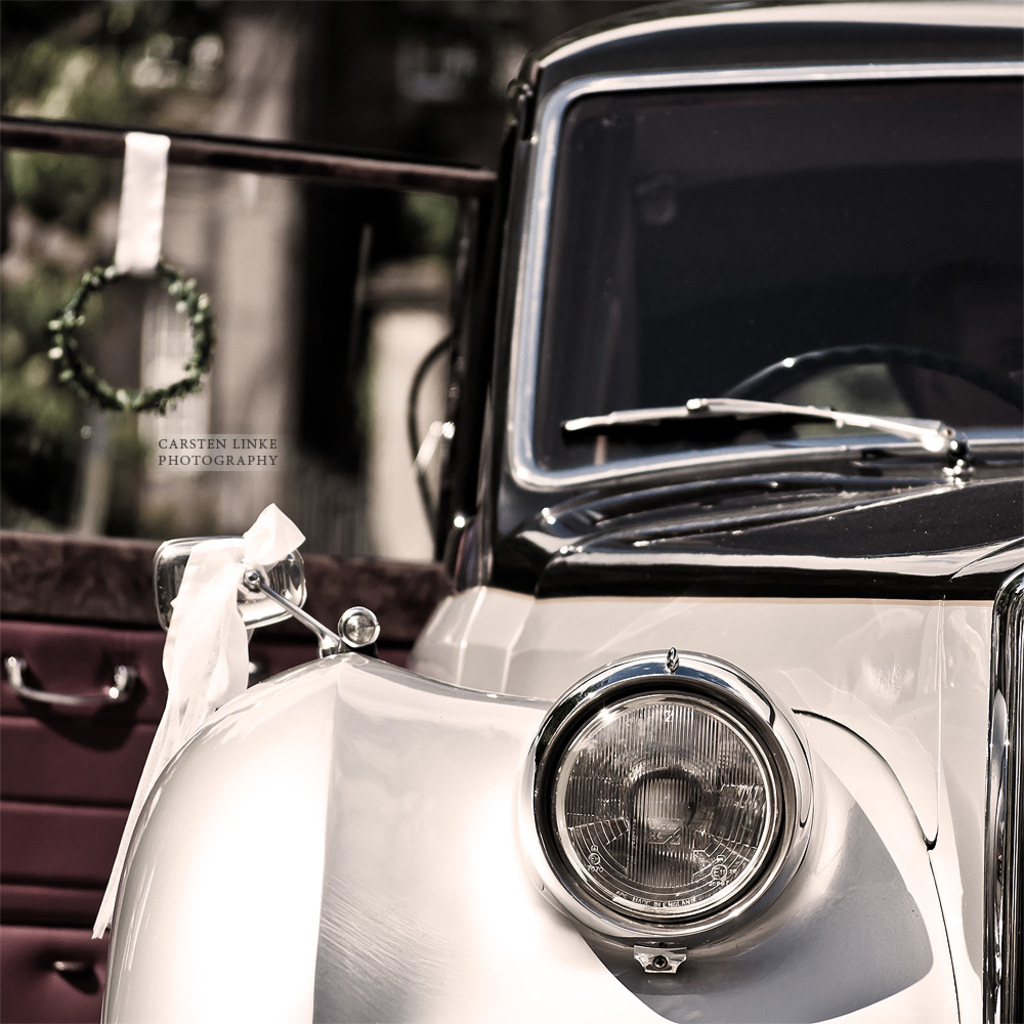Car: (165, 68, 996, 1019)
